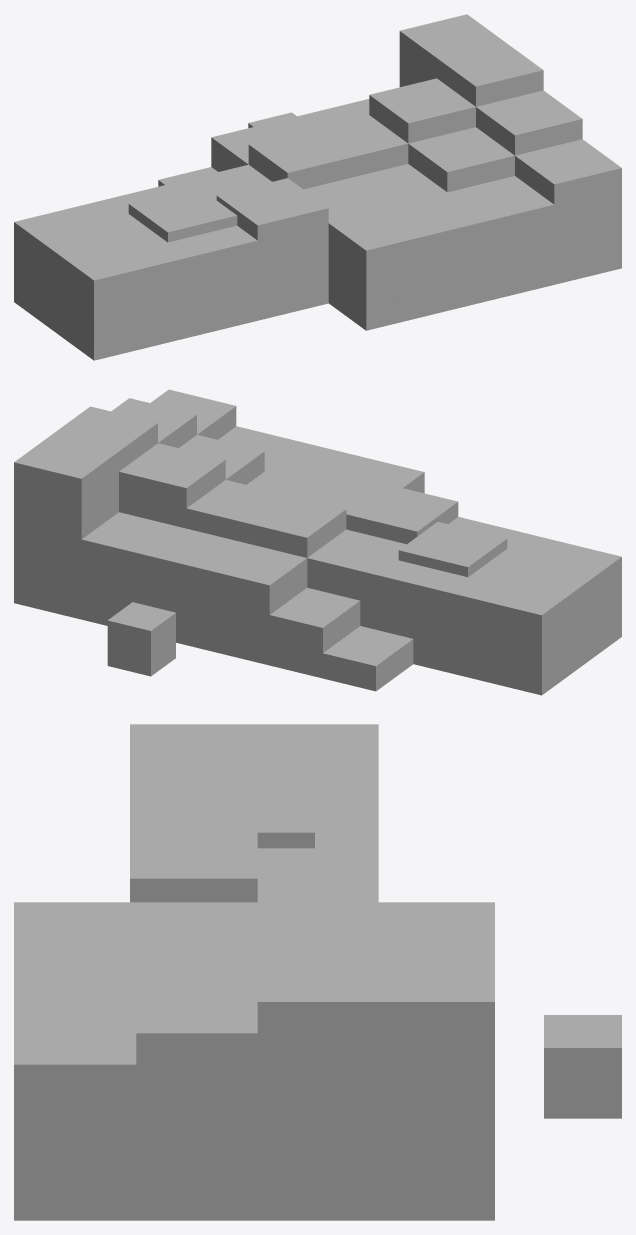
3 views of the same model, one above another, from view 1: azimuth 30°, elevation 25°; view 2: azimuth 150°, elevation 25°; view 3: azimuth 270°, elevation 25° (orthographic). The views are drawn at different scales.
Parts seen in each view (by area): view 1: Mesh_15.023; view 2: Mesh_15.023; view 3: Mesh_15.023.
Part boxes in pixels (box(x1,y1,x2,y2)): Mesh_15.023: box(14, 14, 621, 360); Mesh_15.023: box(14, 389, 621, 695); Mesh_15.023: box(14, 724, 621, 1220).
Size of the model in its own units: 5.08 by 1.39 by 3.51.
Materials: 1 (1 with a texture image).
